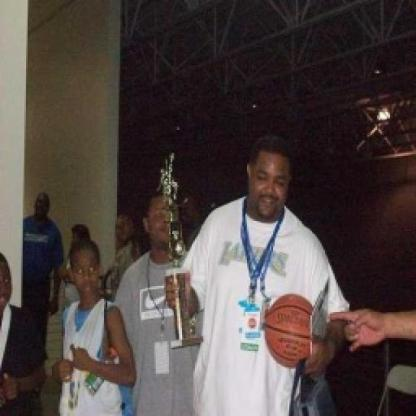basketball: (264, 292, 311, 366)
